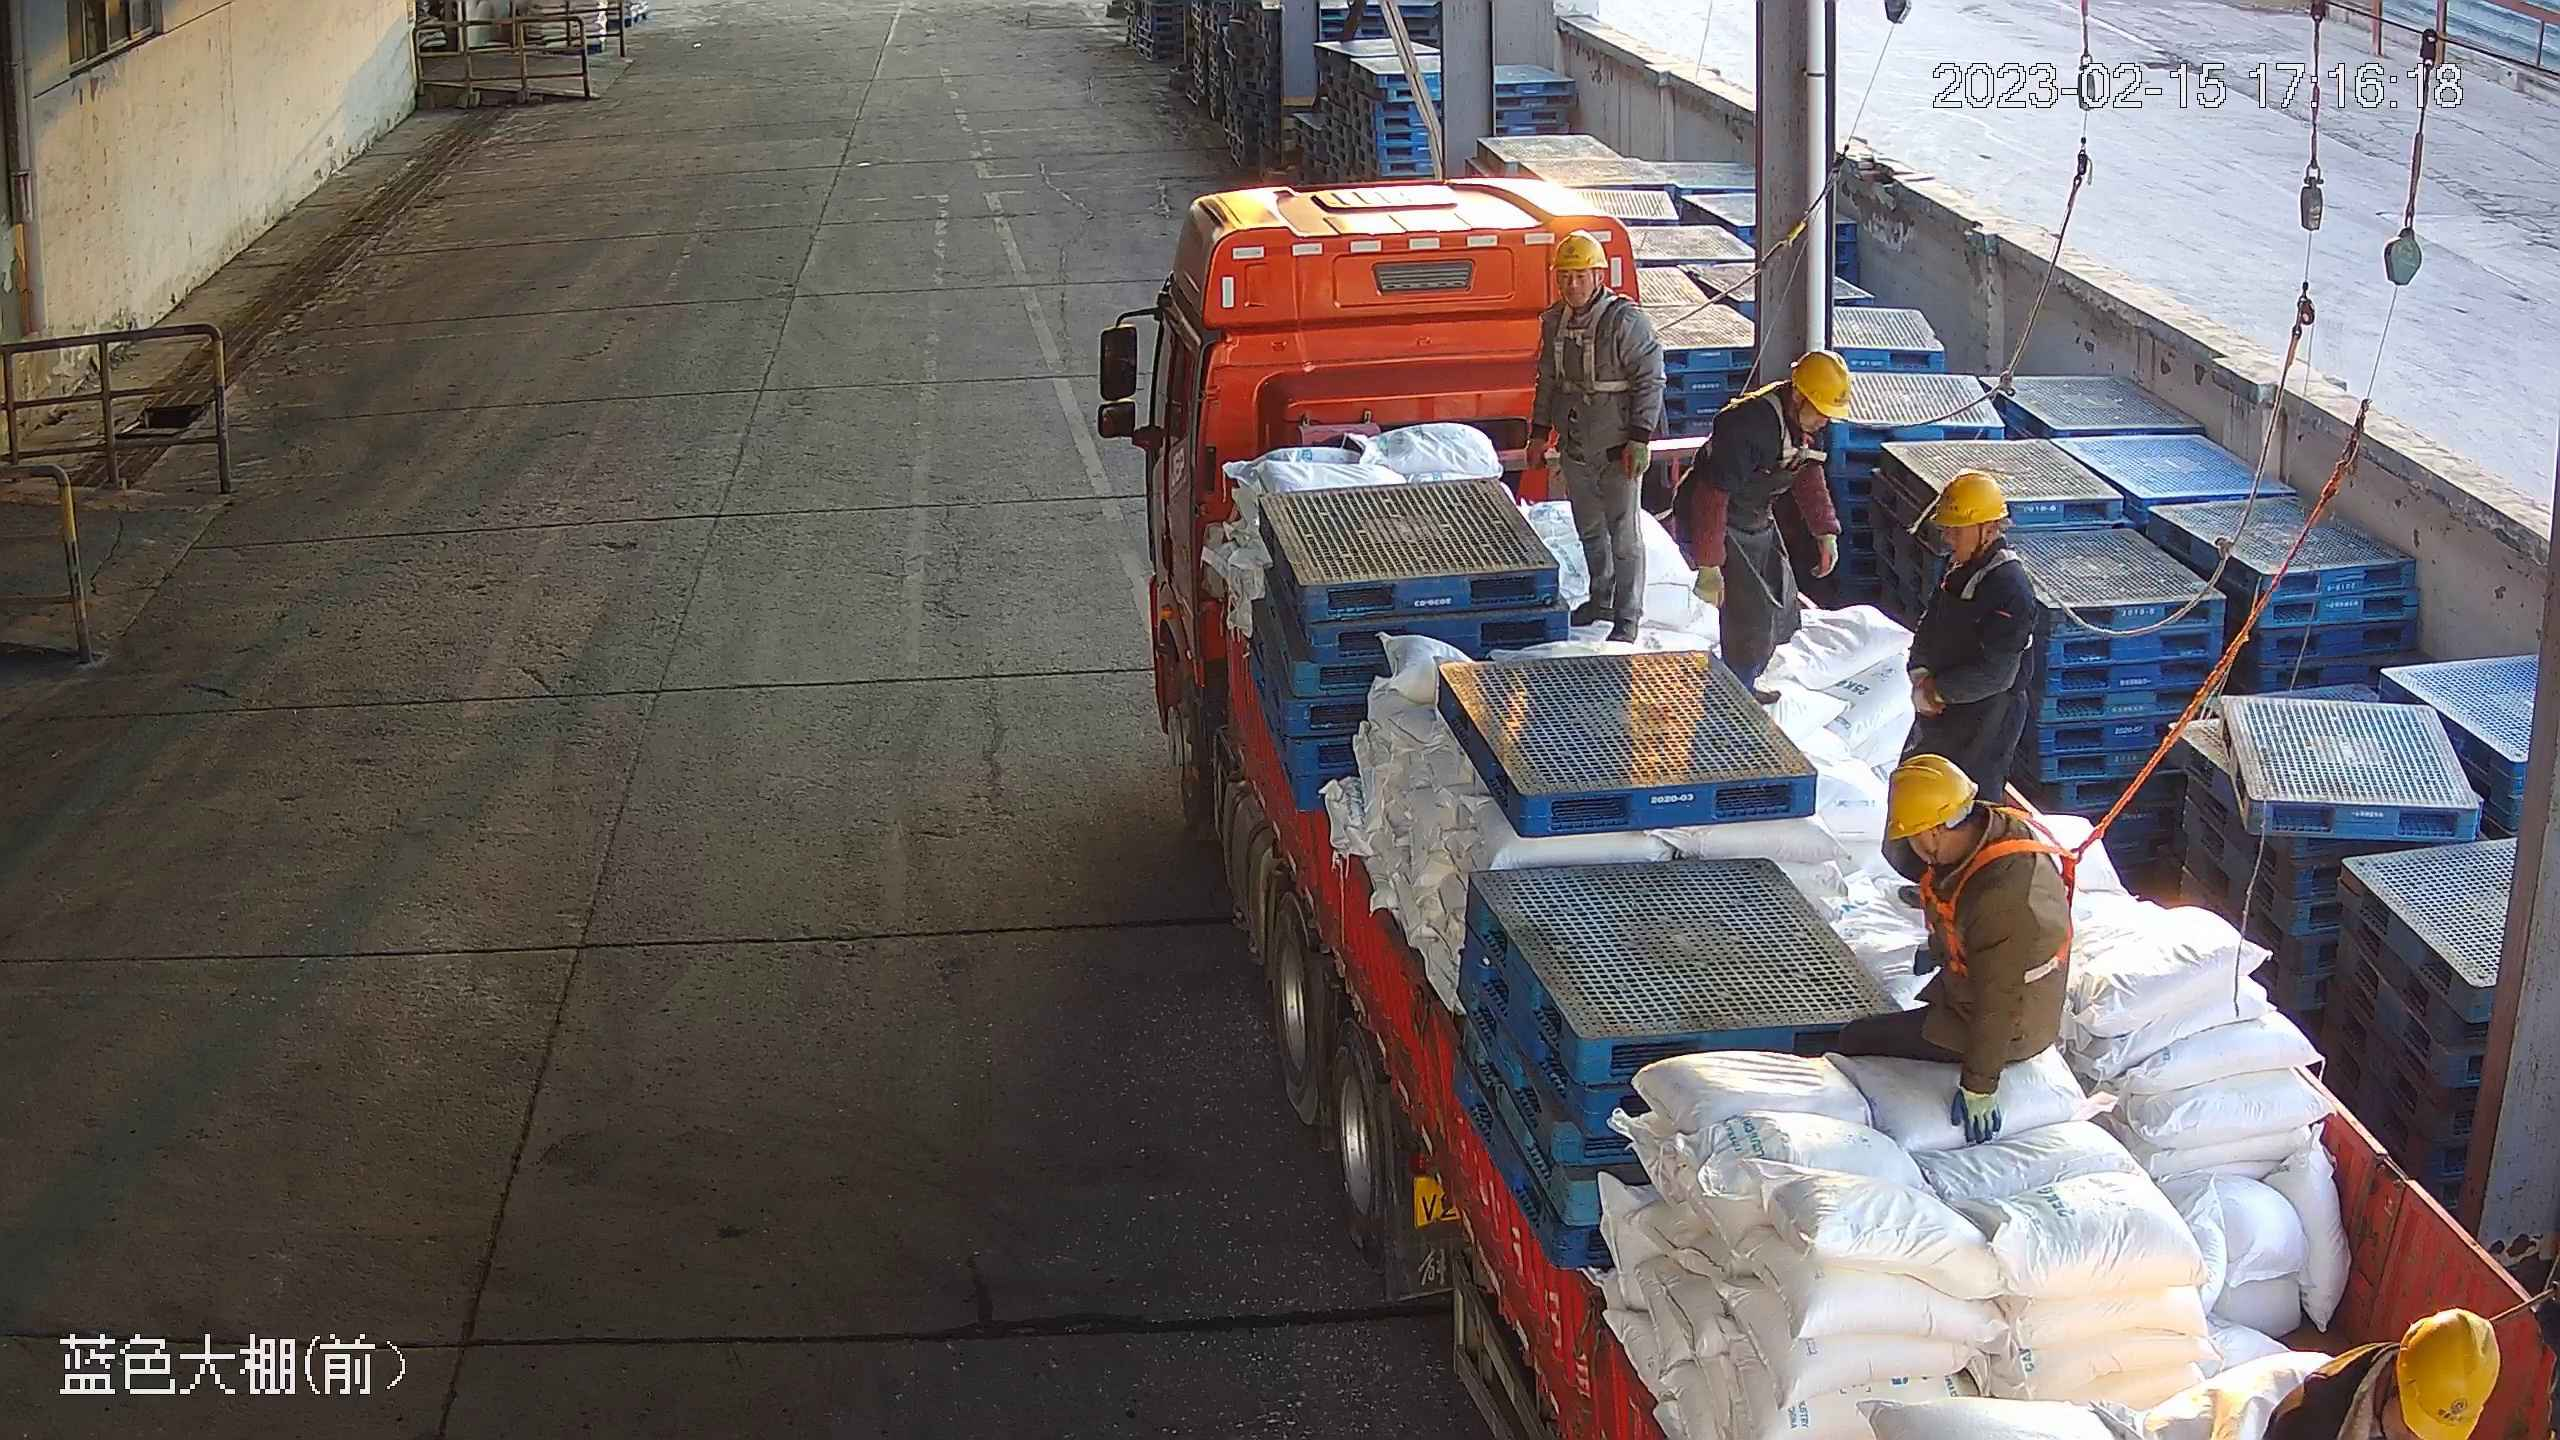belt: (1909, 835, 2093, 985), (1538, 288, 1636, 405), (1725, 385, 1823, 464), (1936, 549, 2038, 595)
head: (1879, 752, 2083, 911), (1912, 475, 2046, 618), (1533, 221, 1661, 362), (1699, 353, 1849, 470)
helmet: (2392, 1297, 2501, 1440), (1875, 753, 1975, 835), (1931, 470, 2014, 536), (1788, 353, 1862, 418), (1553, 221, 1609, 270)
people: (1869, 751, 2077, 1131), (1505, 229, 1666, 655), (1673, 347, 1857, 701), (1892, 471, 2053, 818)
truck: (1080, 171, 2554, 1440)
